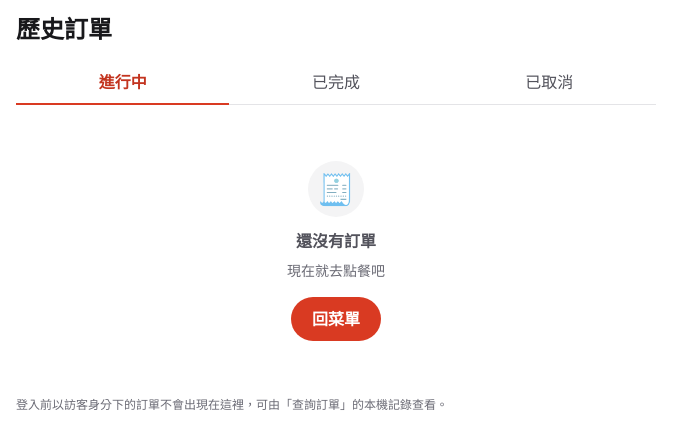
OrdersPage › 分頁籤切換：ARIA tab 樣式、依分頁載入、網址帶 tab
The width and height of the screenshot is (673, 430).
Check: the heading "還沒有訂單" is shown, box [296, 229, 376, 253]
Click the tab "已完成".
click(336, 83)  # box [229, 61, 443, 105]
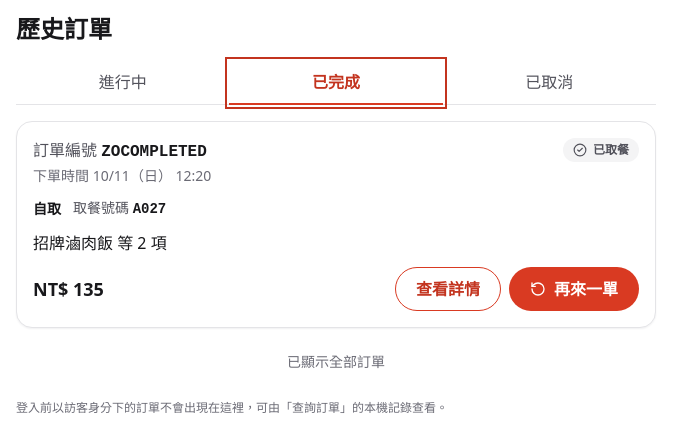
Check: the text "ZOCOMPLETED" is shown, box [101, 143, 207, 161]
